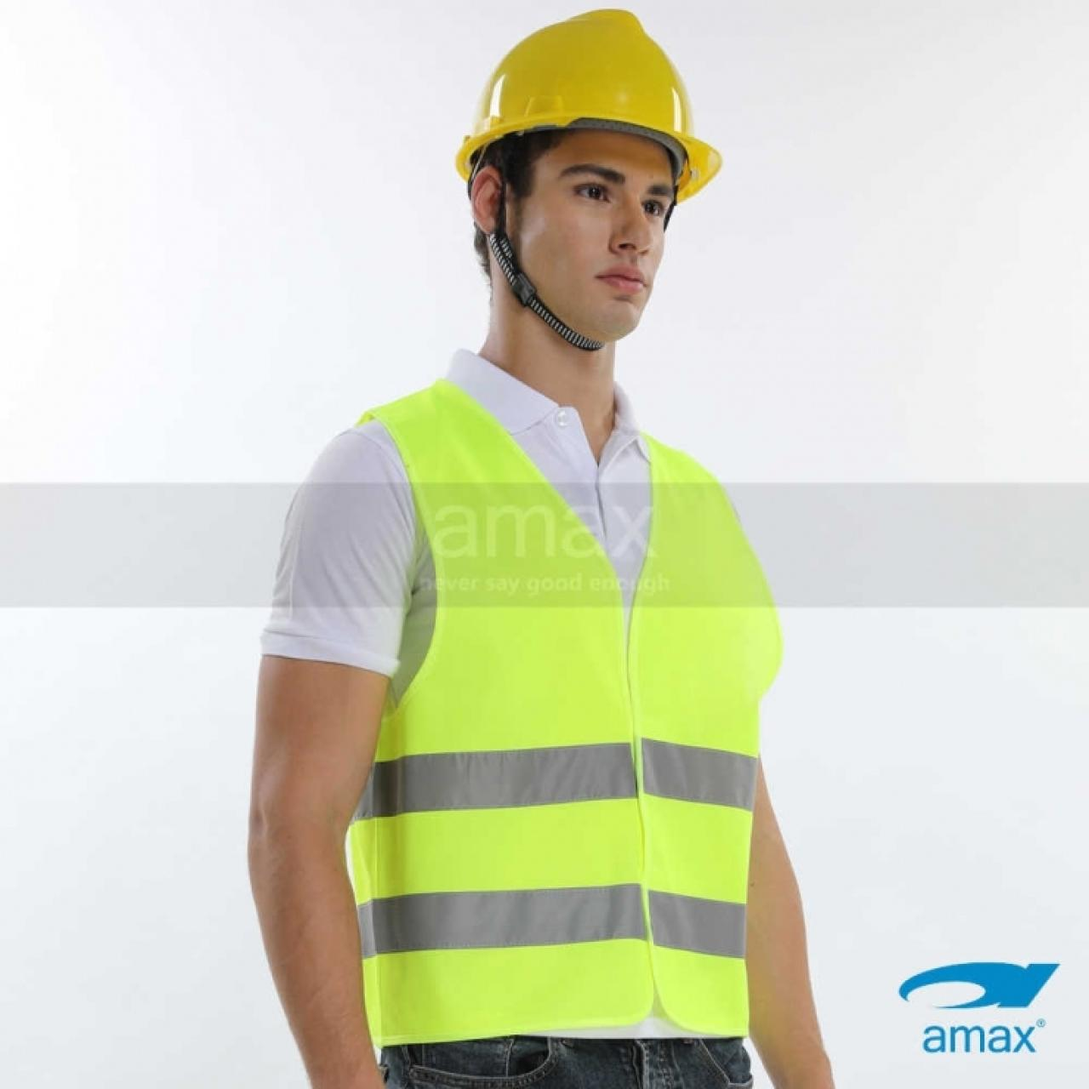Person: (185, 0, 884, 1089)
Safety_Vest: (280, 379, 805, 1042)
